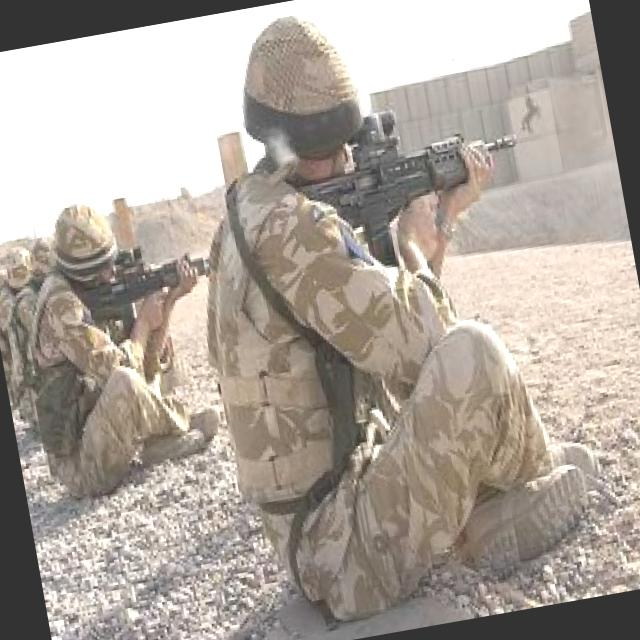long weapon: (298, 66, 532, 266), (101, 236, 228, 332)
